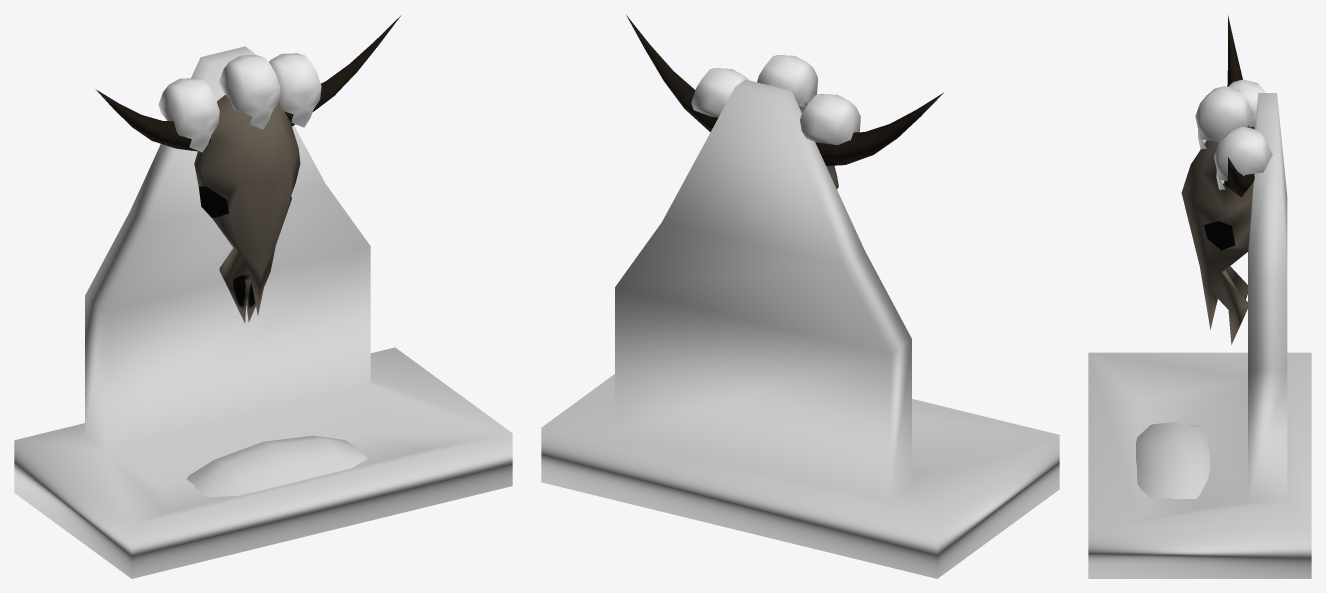
The model's file is Shrine Done.fbx.
3 renders of one model, left to right at view 1: azimuth 30°, elevation 25°; view 2: azimuth 150°, elevation 25°; view 3: azimuth 270°, elevation 25°, orthographic. The views are drawn at different scales.
Parts seen in each view (by area): view 1: Cube; view 2: Cube; view 3: Cube.
Boxes of the visible parts, x1,y1,x2,y2 form: Cube: (14,15,512,578); Cube: (541,15,1059,578); Cube: (1088,15,1311,578).
Bounding box in the file's own units: 374 × 401 × 200.
